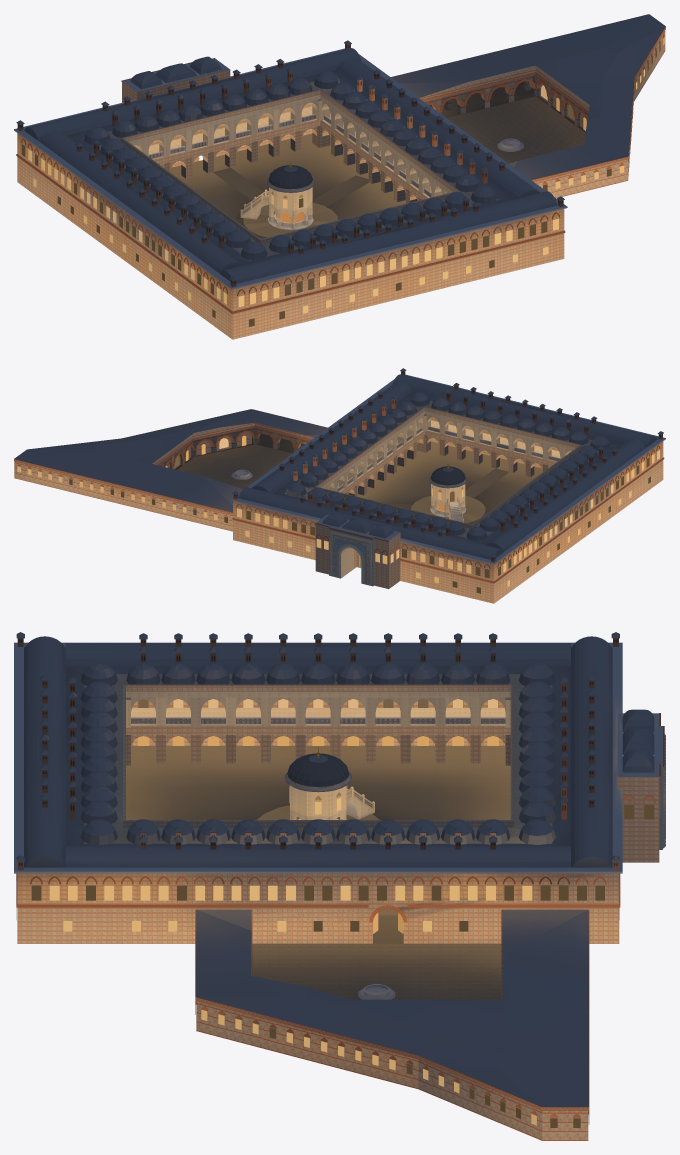
File: koza-han_v14_night.glb
3 views of the same model, one above another, from view 1: azimuth 30°, elevation 25°; view 2: azimuth 150°, elevation 25°; view 3: azimuth 270°, elevation 25° (orthographic). The views are drawn at different scales.
Parts seen in each view (by area): view 1: Cati, Govde_Dis, Ic_Koza, Avlu_Zemin, Kubbe_Avlu, Avlu_Revak, Baca, Cephe, Portal, Avlu_Mescit, Silme_Kat, Avlu_Halka (+1 smaller); view 2: Ic_Koza, Cati, Govde_Dis, Avlu_Zemin, Kubbe_Avlu, Avlu_Revak, Portal, Baca, Cephe, Avlu_Mescit, Silme_Kat, Avlu_Halka (+1 smaller); view 3: Cati, Ic_Koza, Govde_Dis, Avlu_Zemin, Kubbe_Avlu, Avlu_Revak, Baca, Cephe, Portal, Avlu_Mescit, Silme_Kat, Avlu_Cephe (+1 smaller).
Part boxes in pixels (x1,y1,x2,y2): Cati: [14, 48, 567, 289]; Govde_Dis: [17, 70, 564, 339]; Ic_Koza: [391, 14, 665, 198]; Avlu_Zemin: [170, 77, 585, 238]; Kubbe_Avlu: [84, 70, 497, 259]; Avlu_Revak: [83, 81, 498, 260]; Baca: [16, 40, 564, 286]; Cephe: [21, 96, 559, 326]; Portal: [121, 56, 230, 102]; Avlu_Mescit: [240, 138, 523, 229]; Silme_Kat: [16, 154, 565, 313]; Avlu_Halka: [243, 202, 337, 237]; Ic_Koza: [14, 409, 327, 531]; Cati: [230, 374, 665, 564]; Govde_Dis: [233, 391, 663, 603]; Avlu_Zemin: [175, 433, 542, 524]; Kubbe_Avlu: [285, 392, 610, 540]; Avlu_Revak: [285, 400, 611, 541]; Portal: [315, 513, 400, 588]; Baca: [232, 368, 663, 562]; Cephe: [236, 445, 660, 593]; Avlu_Mescit: [231, 469, 466, 522]; Silme_Kat: [232, 457, 664, 583]; Avlu_Halka: [411, 495, 485, 523]; Cati: [14, 636, 622, 873]; Ic_Koza: [195, 909, 589, 1140]; Govde_Dis: [17, 666, 619, 943]; Avlu_Zemin: [126, 745, 510, 999]; Kubbe_Avlu: [80, 662, 555, 844]; Avlu_Revak: [84, 674, 552, 843]; Baca: [16, 632, 619, 870]; Cephe: [16, 785, 660, 931]; Portal: [617, 709, 665, 862]; Avlu_Mescit: [289, 785, 395, 999]; Silme_Kat: [16, 881, 620, 907]; Avlu_Cephe: [137, 699, 498, 745].
Size of the model in its own units: 120 by 13.15 by 77.99.
31 materials, 14 textured.
